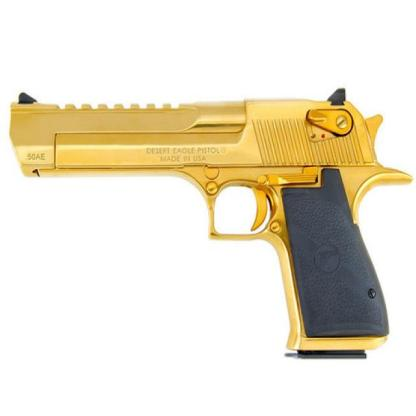handgun: (7, 84, 413, 394)
